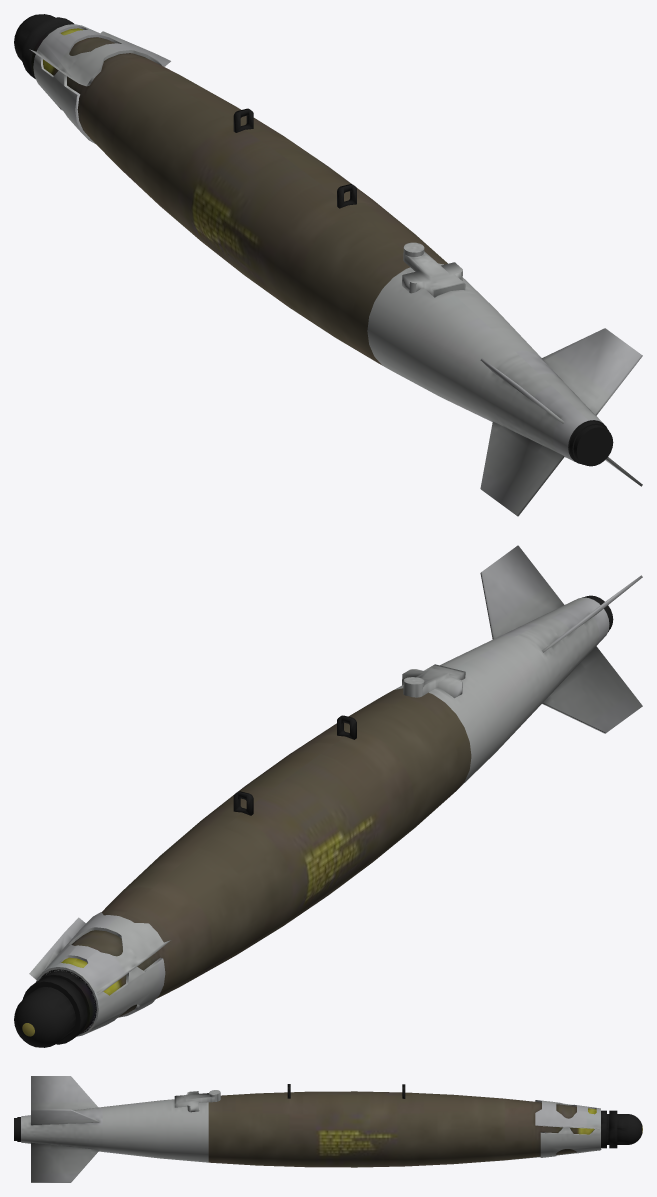
File: gbu38.glb
3 renders of one model, top to bottom at view 1: azimuth 30°, elevation 25°; view 2: azimuth 150°, elevation 25°; view 3: azimuth 270°, elevation 25°, orthographic. The views are drawn at different scales.
Parts seen in each view (by area): view 1: gbu38_body; view 2: gbu38_body; view 3: gbu38_body.
Boxes of the visible parts, x1,y1,x2,y2 form: gbu38_body: (14,14,642,516); gbu38_body: (14,545,642,1047); gbu38_body: (14,1076,642,1182).
Bounding box in the file's own units: 0.2937 × 0.3231 × 2.28.
Materials: 1 (1 with a texture image).
